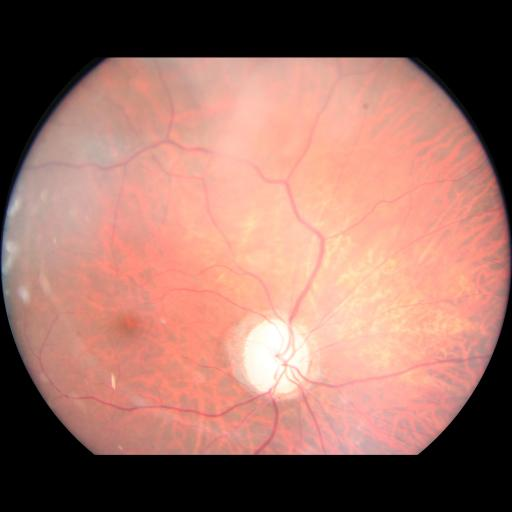Optic Disc: (242, 319, 311, 396)
